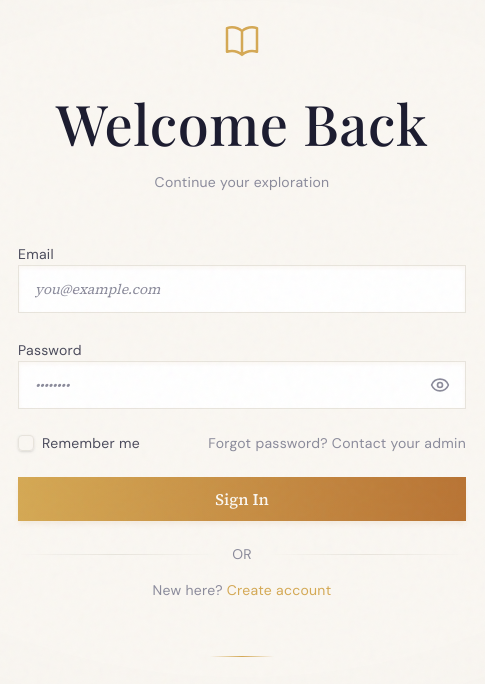
Test: LoginPage › Remember Me Feature › should not show remember me in signup mode
Click the button "New here? Create account" at x=242, y=590, box x1=18 y1=572 x2=466 y2=608
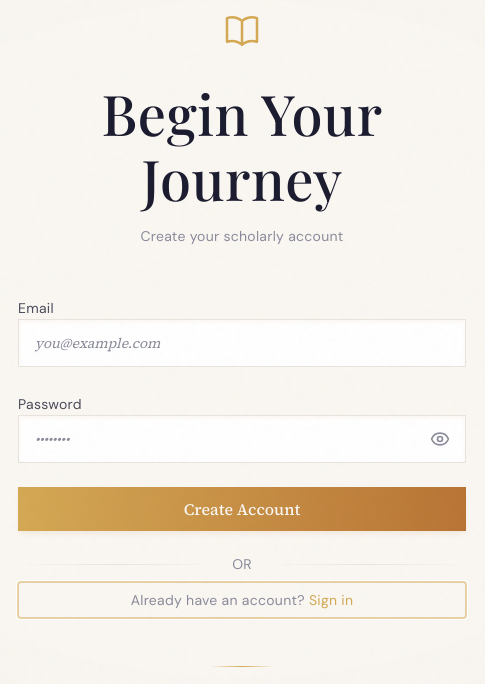
Now the heading "Begin Your Journey" is shown, box x1=102 y1=75 x2=382 y2=215
Now the label "Remember me" is gone
